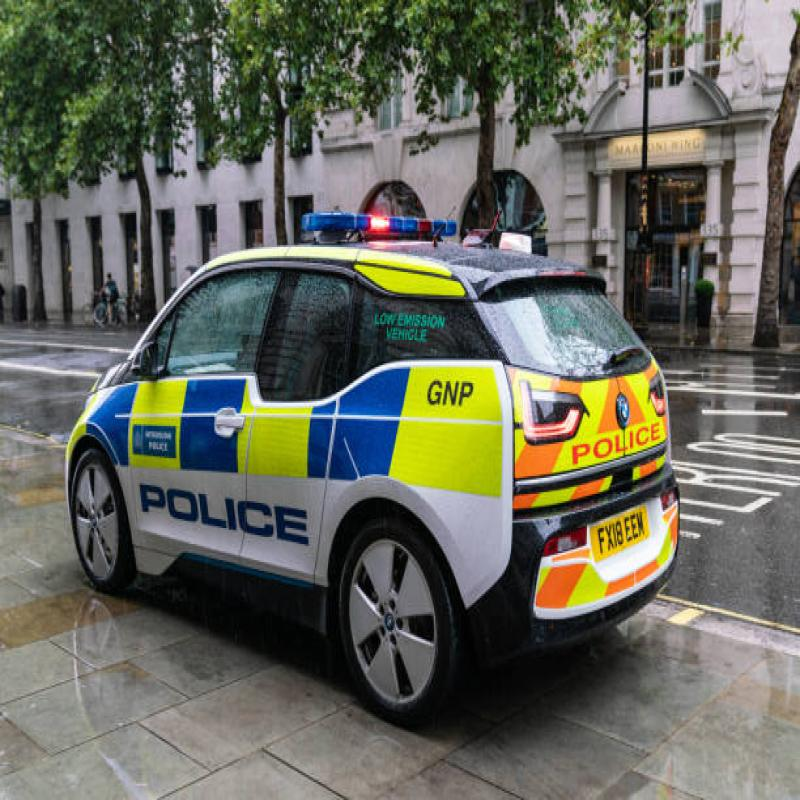AmbulanceSiren: (288, 184, 466, 259)
